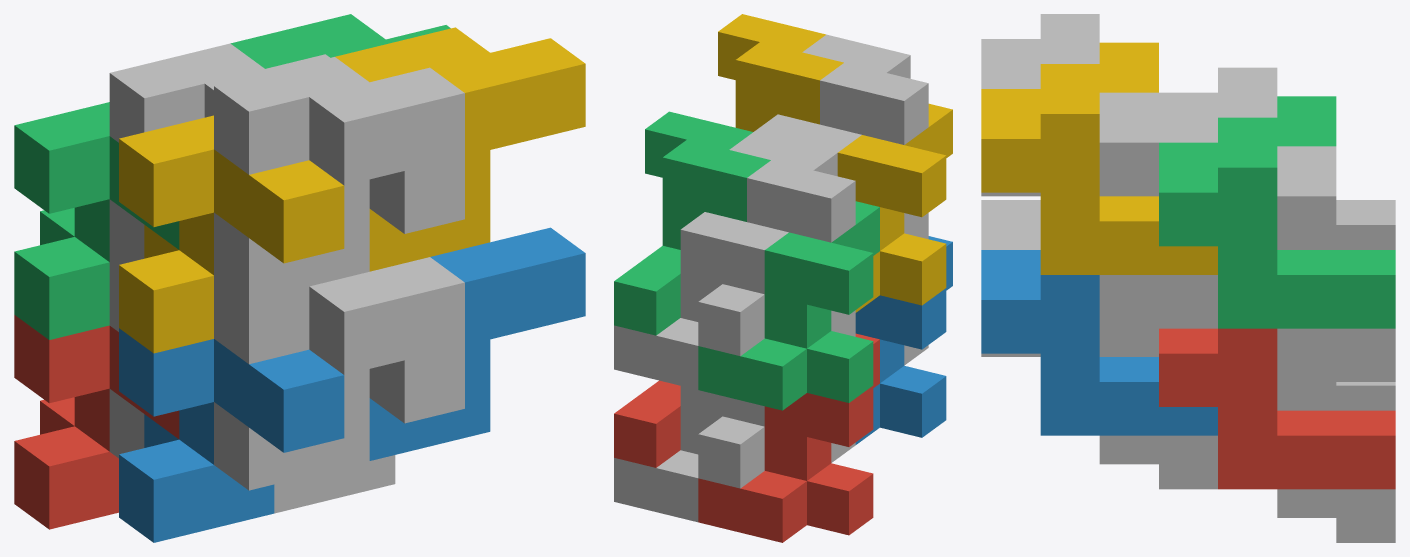
Rendered from tiling.obj.
The picture shows the model from 3 angles, left to right: view 1: azimuth 30°, elevation 25°; view 2: azimuth 150°, elevation 25°; view 3: azimuth 270°, elevation 25°; orthographic projection. The views are drawn at different scales.
Visible parts, largest first — view 1: copy_2_domain_4, copy_1_domain_4, copy_1_domain_2, copy_2_domain_2, copy_2_domain_8, copy_1_domain_3, copy_1_domain_1, copy_2_domain_6, copy_2_domain_3, copy_1_domain_6, copy_1_domain_8, copy_2_domain_7 (+1 smaller); view 2: copy_1_domain_3, copy_1_domain_1, copy_2_domain_7, copy_2_domain_3, copy_1_domain_4, copy_1_domain_7, copy_2_domain_8, copy_2_domain_4, copy_1_domain_2, copy_1_domain_5, copy_2_domain_5, copy_2_domain_1 (+2 smaller); view 3: copy_2_domain_7, copy_2_domain_8, copy_2_domain_5, copy_2_domain_6, copy_1_domain_8, copy_1_domain_7, copy_2_domain_3, copy_1_domain_6, copy_1_domain_5, copy_2_domain_4, copy_1_domain_3, copy_1_domain_4 (+2 smaller).
Boxes of the visible parts, x1,y1,x2,y2 form: copy_2_domain_4: [214, 57, 464, 300]; copy_1_domain_4: [119, 115, 344, 353]; copy_1_domain_2: [119, 328, 344, 542]; copy_2_domain_2: [214, 257, 464, 490]; copy_2_domain_8: [335, 27, 585, 271]; copy_1_domain_3: [14, 102, 179, 339]; copy_1_domain_1: [14, 315, 179, 529]; copy_2_domain_6: [369, 227, 585, 460]; copy_2_domain_3: [109, 43, 329, 268]; copy_1_domain_6: [274, 345, 464, 513]; copy_1_domain_8: [369, 156, 464, 233]; copy_2_domain_7: [230, 14, 450, 68]; copy_1_domain_3: [698, 201, 879, 410]; copy_1_domain_1: [698, 333, 879, 542]; copy_2_domain_7: [614, 111, 770, 335]; copy_2_domain_3: [698, 132, 855, 356]; copy_1_domain_4: [837, 103, 952, 312]; copy_1_domain_7: [614, 212, 788, 389]; copy_2_domain_8: [718, 14, 843, 131]; copy_2_domain_4: [802, 34, 928, 232]; copy_1_domain_2: [855, 236, 952, 444]; copy_1_domain_5: [614, 386, 764, 522]; copy_2_domain_5: [614, 380, 680, 467]; copy_2_domain_1: [698, 313, 855, 488]; copy_2_domain_7: [1159, 117, 1395, 328]; copy_2_domain_8: [981, 64, 1217, 274]; copy_2_domain_5: [1159, 328, 1395, 489]; copy_2_domain_6: [981, 250, 1217, 435]; copy_1_domain_8: [981, 92, 1217, 328]; copy_1_domain_7: [1277, 146, 1395, 381]; copy_2_domain_3: [1159, 67, 1395, 249]; copy_1_domain_6: [981, 303, 1217, 489]; copy_1_domain_5: [1277, 357, 1395, 542]; copy_2_domain_4: [981, 14, 1099, 88]; copy_1_domain_3: [1277, 96, 1336, 146]; copy_1_domain_4: [1099, 42, 1158, 92].
Bounding box in the file's own units: 6 × 8 × 7.
